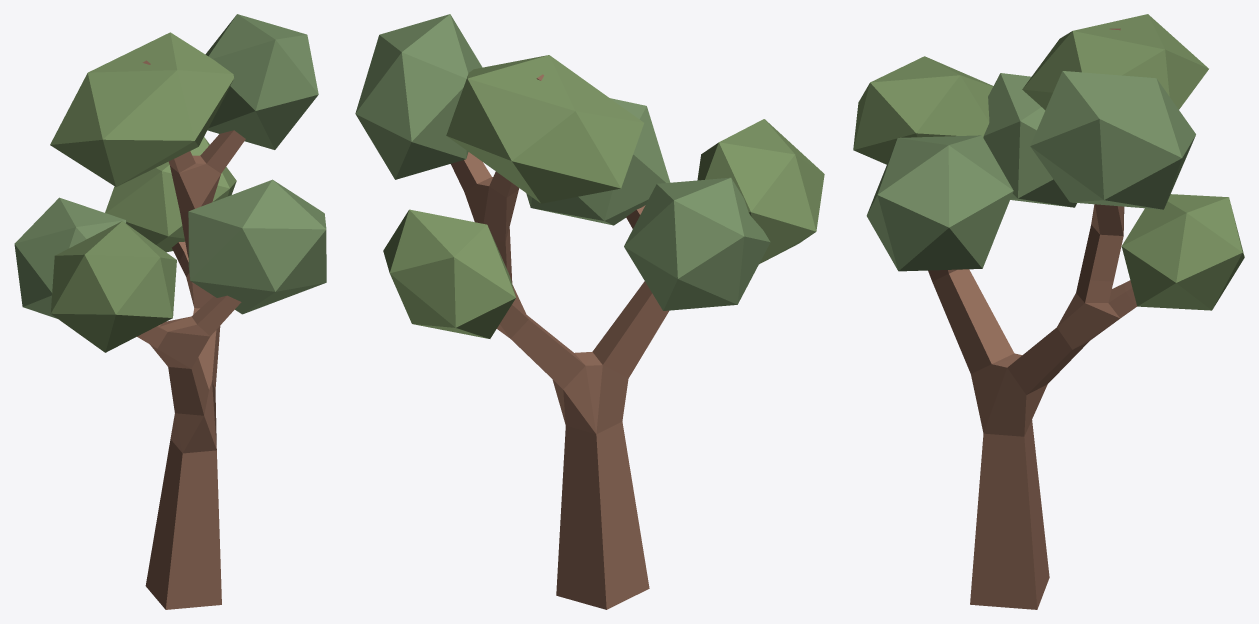
File: tree2.fbx
3 views of the same model, side by side, from view 1: azimuth 30°, elevation 25°; view 2: azimuth 150°, elevation 25°; view 3: azimuth 270°, elevation 25° (orthographic). The views are drawn at different scales.
Parts seen in each view (by area): view 1: Cube, Icosphere.004, Icosphere.002, Icosphere, Icosphere.005, Icosphere.001, Icosphere.003; view 2: Cube, Icosphere.004, Icosphere.001, Icosphere.005, Icosphere.003, Icosphere, Icosphere.002; view 3: Cube, Icosphere.005, Icosphere.002, Icosphere.003, Icosphere, Icosphere.004, Icosphere.001.
Boxes of the visible parts, left/top/right/bottom form: Cube: left=137, top=60, right=245, bottom=609; Icosphere.004: left=50, top=32, right=233, bottom=186; Icosphere.002: left=188, top=179, right=326, bottom=314; Icosphere: left=50, top=221, right=176, bottom=352; Icosphere.005: left=205, top=14, right=318, bottom=149; Icosphere.001: left=14, top=197, right=126, bottom=318; Icosphere.003: left=105, top=137, right=236, bottom=252; Cube: left=451, top=74, right=668, bottom=609; Icosphere.004: left=446, top=55, right=643, bottom=203; Icosphere.001: left=624, top=177, right=770, bottom=310; Icosphere.005: left=355, top=14, right=482, bottom=179; Icosphere.003: left=383, top=209, right=515, bottom=338; Icosphere: left=697, top=119, right=824, bottom=264; Icosphere.002: left=526, top=98, right=670, bottom=225; Cube: left=928, top=28, right=1136, bottom=609; Icosphere.005: left=1030, top=71, right=1195, bottom=209; Icosphere.002: left=866, top=135, right=1013, bottom=271; Icosphere.003: left=1121, top=194, right=1244, bottom=310; Icosphere: left=853, top=56, right=993, bottom=164; Icosphere.004: left=1022, top=14, right=1208, bottom=110; Icosphere.001: left=983, top=73, right=1076, bottom=207.
Size of the model in its own units: 557 by 833 by 504.
